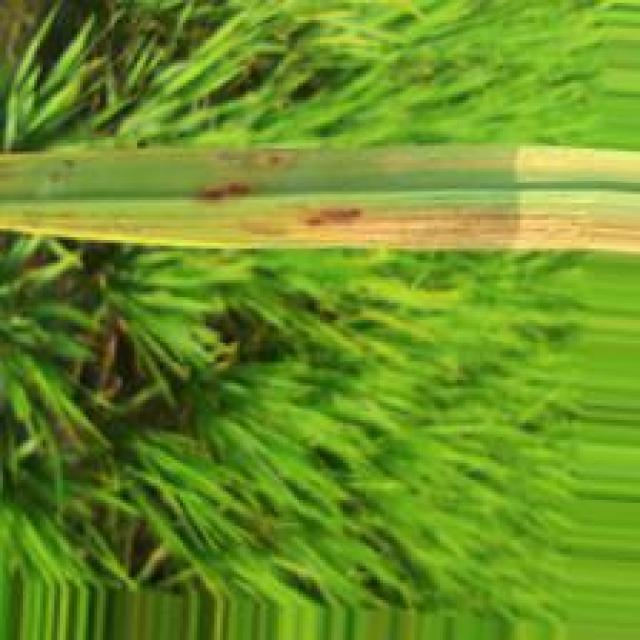Narrow_Brown_Leaf_Spot: (0, 143, 640, 260)
